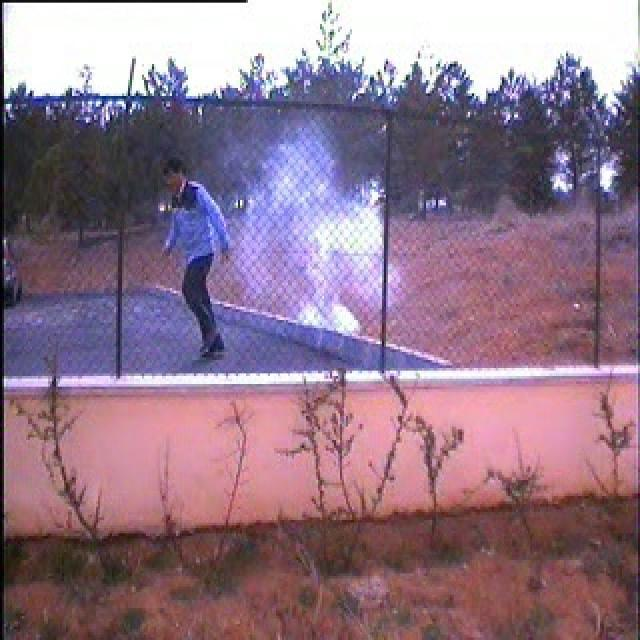Smoke: (236, 114, 406, 339)
